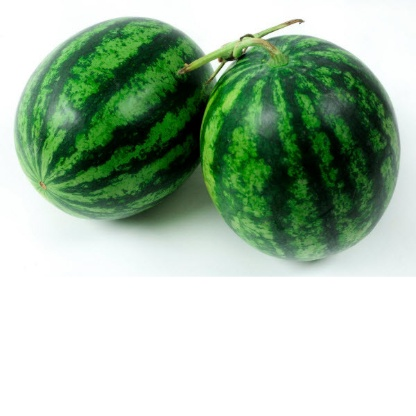duahau: (202, 24, 400, 261), (18, 13, 214, 207)
